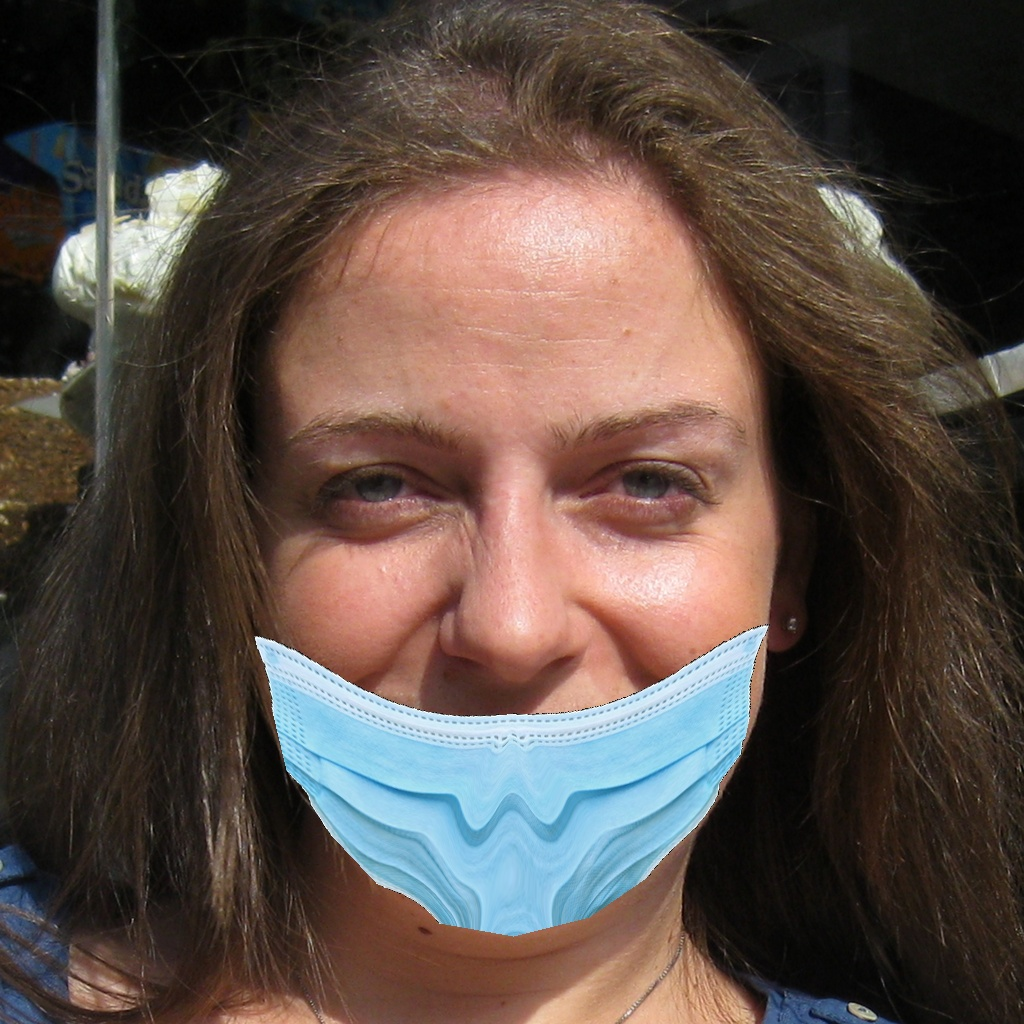mascarilla_mal_puesta: (202, 260, 819, 988)
